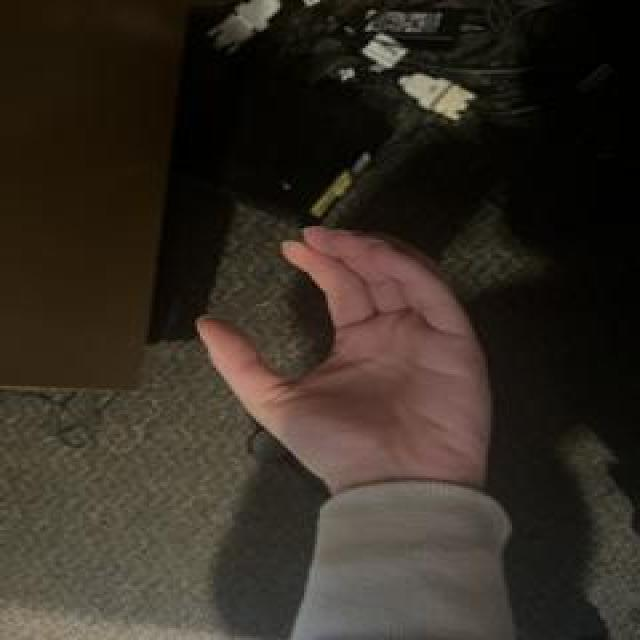C: (191, 223, 497, 499)
